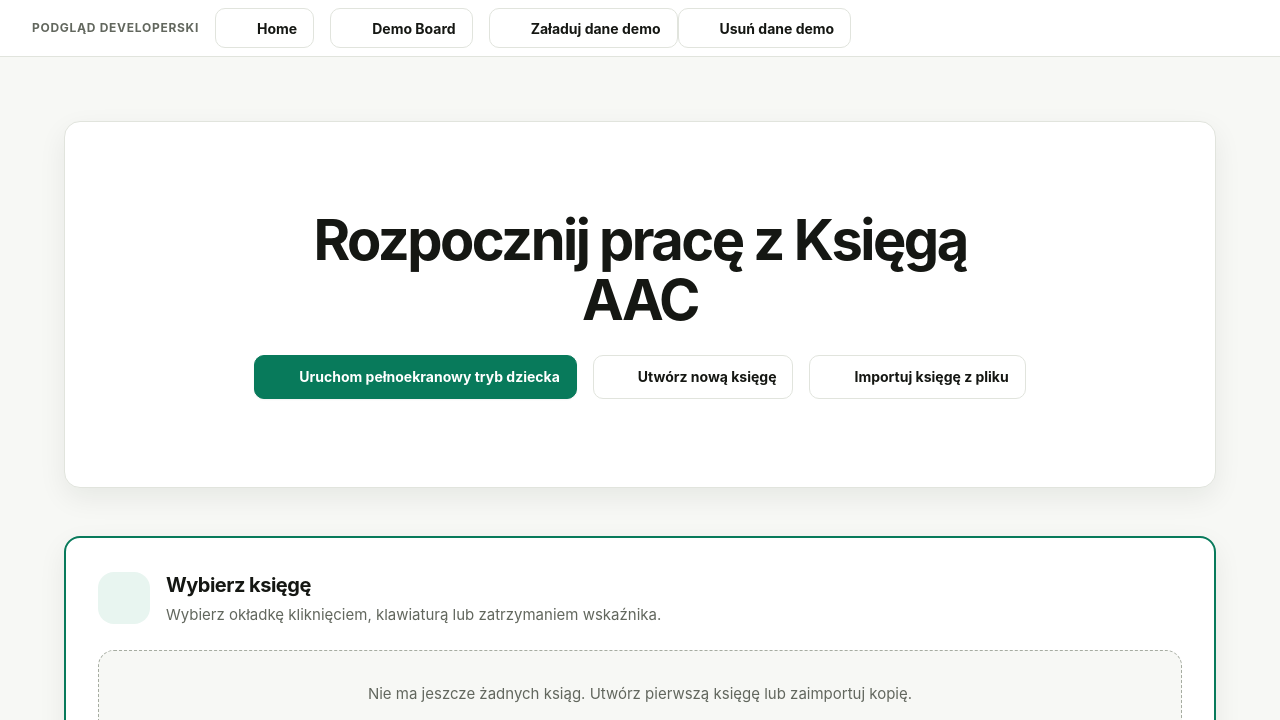
Test: App › creates and opens an unnamed CommunicationBook from Home
The image size is (1280, 720).
Click the button "Utwórz nową księgę" at (693, 377), box [593,355,794,399]
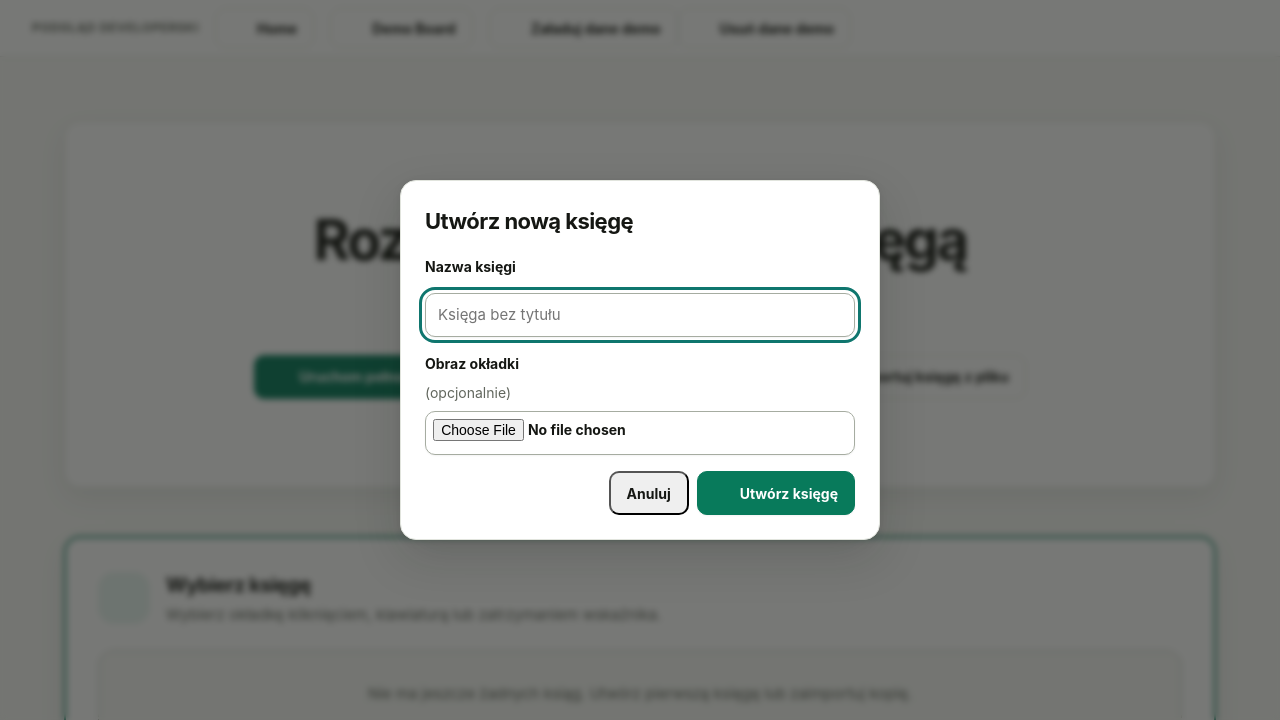
Click the button "Utwórz księgę" at (776, 493), box [697,471,855,515]
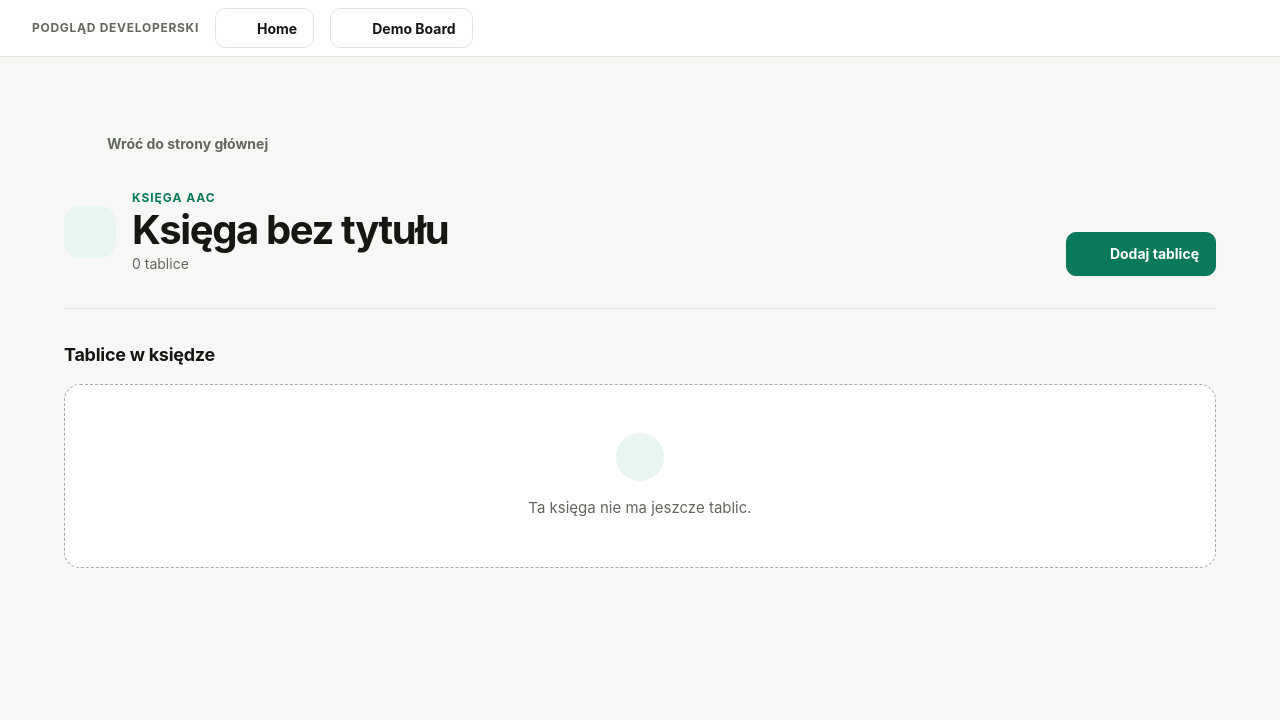
expect the heading "Księga bez tytułu" is shown: met, box [132,207,448,253]
expect the text "Ta księga nie ma jeszcze tablic." is shown: met, box [528,496,752,519]
expect the button with aria-label "← Wróć do strony głównej" is shown: met, box [64,121,285,165]
Click the button with aria-label "+ Dodaj tablicę" at (1141, 254), box [1066,232,1216,276]
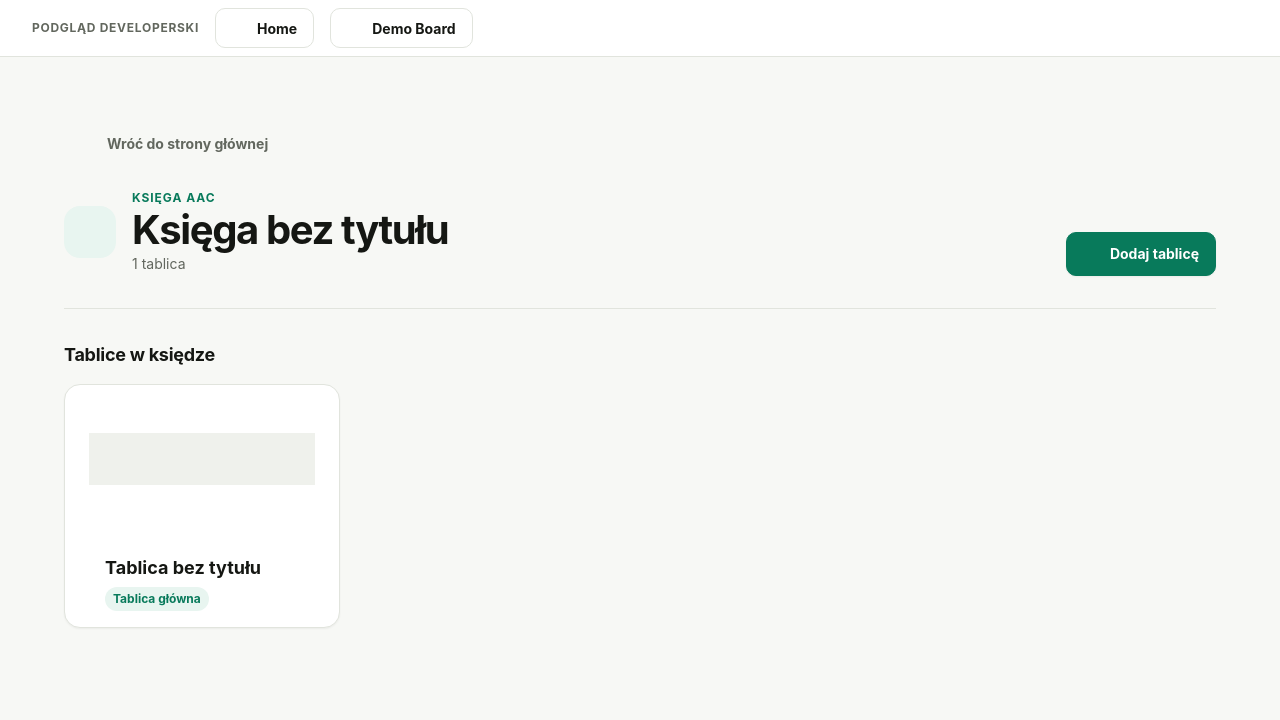
expect the heading "Księga bez tytułu" is shown: met, box [132,207,448,253]
expect the button with aria-label "Wybierz tablicę Tablica bez tytułu" is shown: met, box [64,384,340,628]
